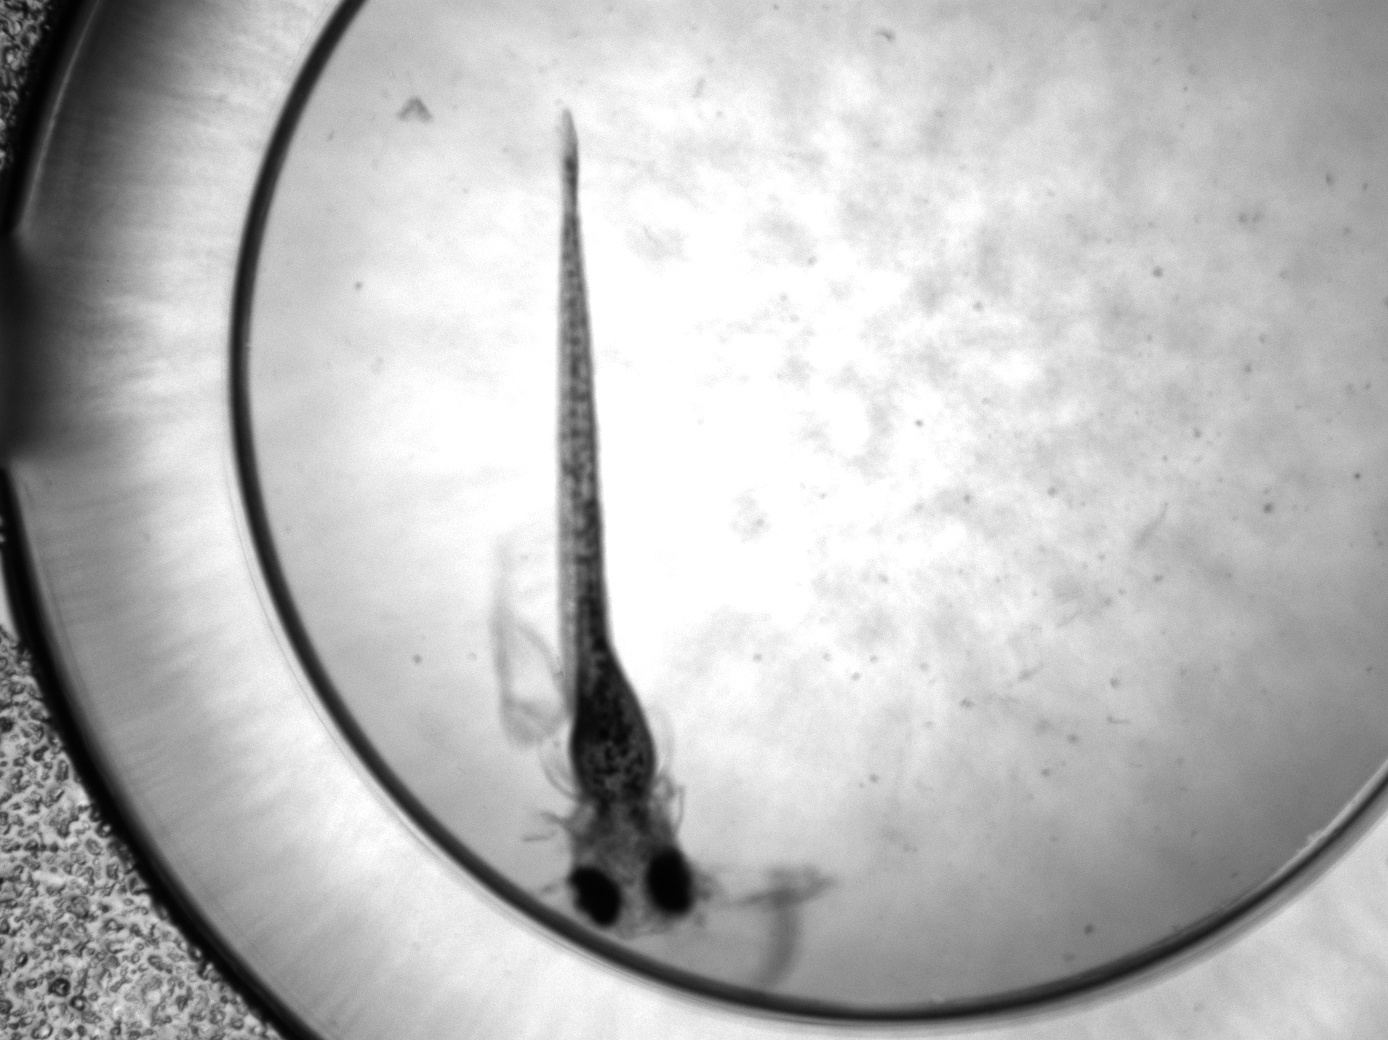embryo: (553, 106, 703, 935)
eye: (567, 866, 626, 931), (645, 847, 698, 918)
yolksac: (563, 625, 657, 804)
